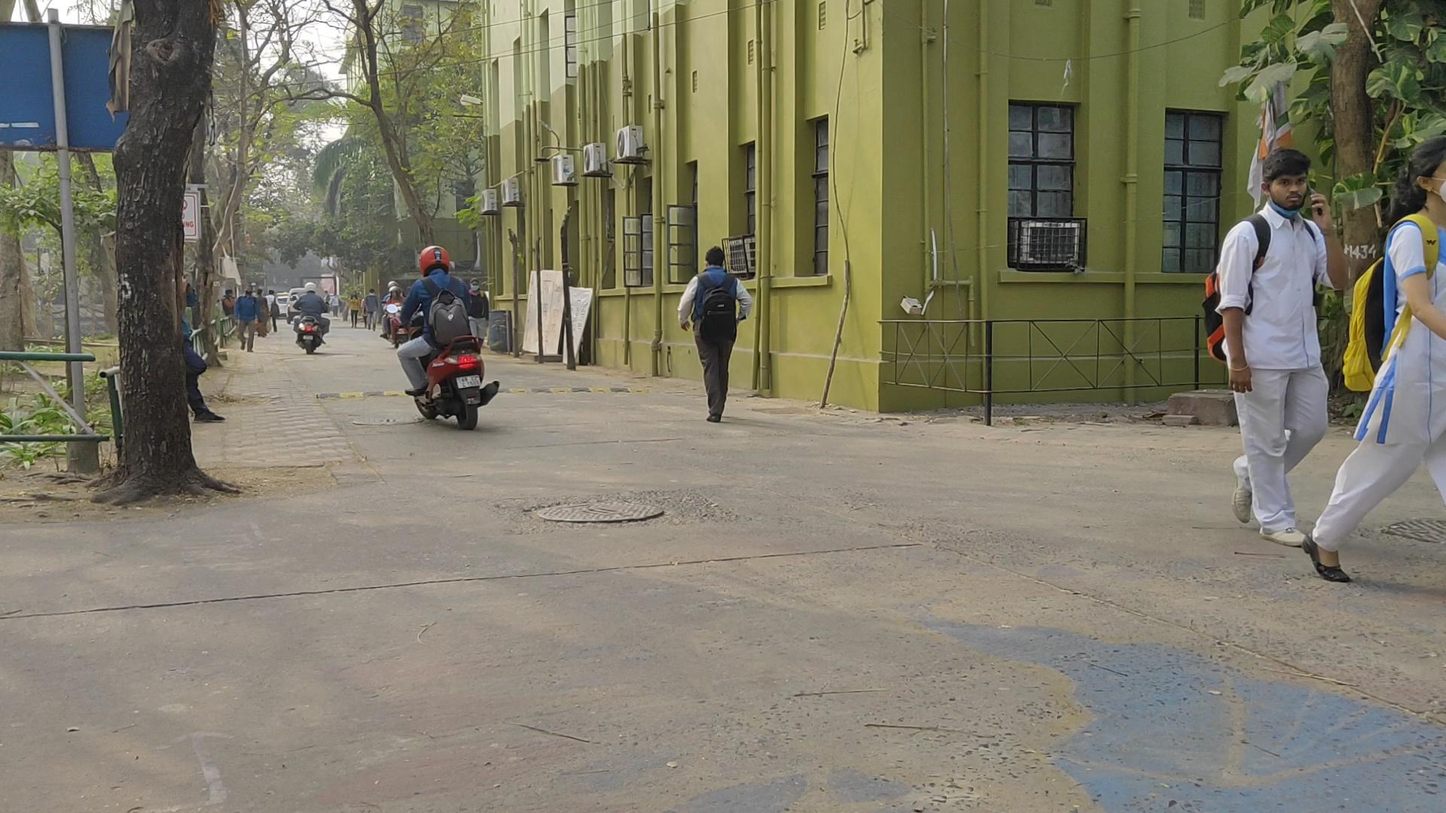bike: (390, 245, 502, 430), (292, 283, 333, 356)
